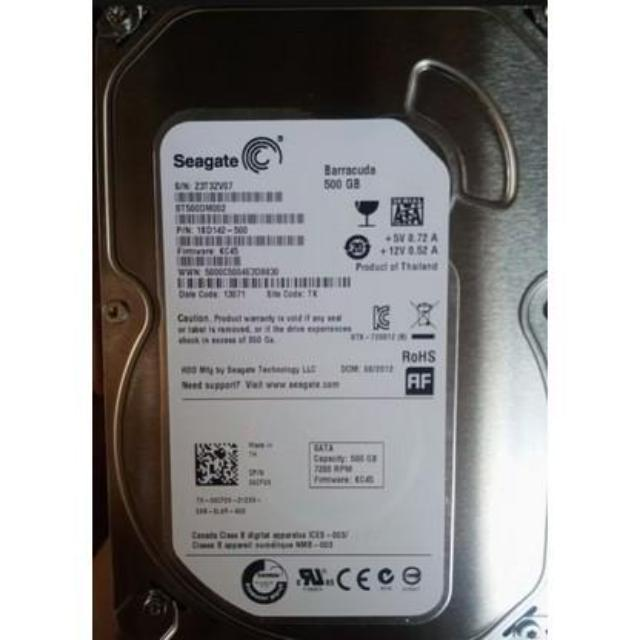DISK: (90, 0, 556, 640)
